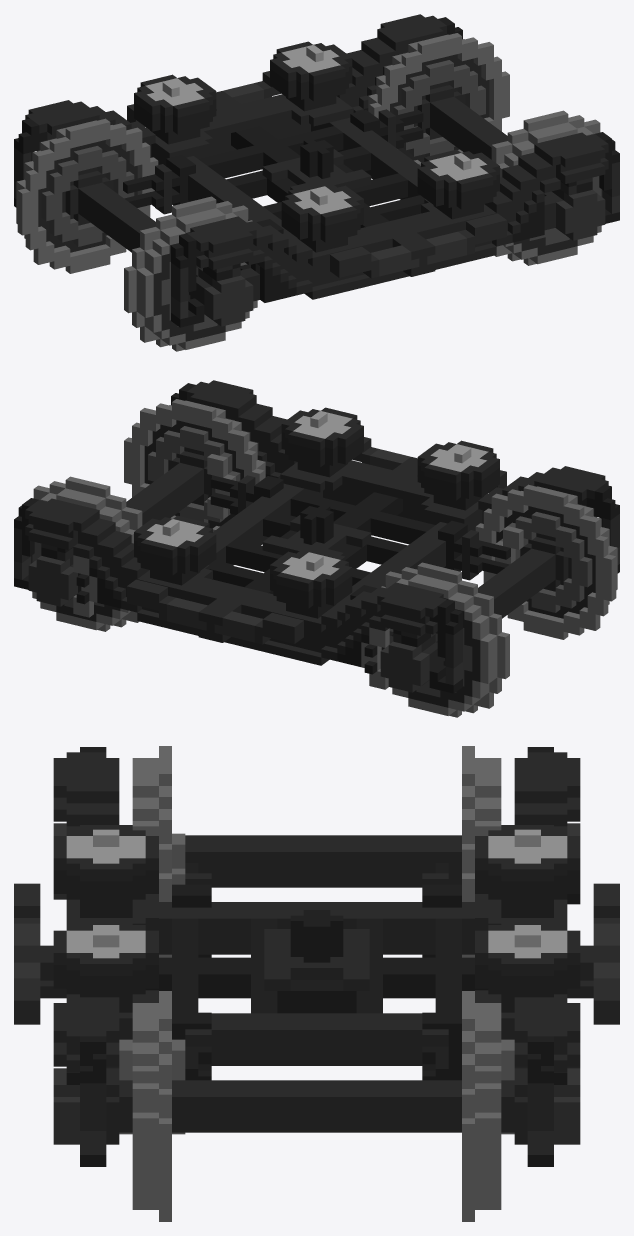
Rendered from rabe501runningbogie.obj.
3 renders of one model, top to bottom at view 1: azimuth 30°, elevation 25°; view 2: azimuth 150°, elevation 25°; view 3: azimuth 270°, elevation 25°, orthographic. The views are drawn at different scales.
Parts seen in each view (by area): view 1: FRAME, FRAME_WHEEL_1, FRAME_WHEEL_2; view 2: FRAME, FRAME_WHEEL_1, FRAME_WHEEL_2; view 3: FRAME, FRAME_WHEEL_2, FRAME_WHEEL_1.
Part boxes in pixels (x1,y1,x2,y2): FRAME: [14, 14, 619, 327]; FRAME_WHEEL_1: [16, 118, 257, 351]; FRAME_WHEEL_2: [368, 33, 602, 265]; FRAME: [14, 380, 619, 693]; FRAME_WHEEL_1: [381, 484, 617, 717]; FRAME_WHEEL_2: [31, 399, 265, 631]; FRAME: [14, 747, 619, 1166]; FRAME_WHEEL_2: [119, 991, 514, 1221]; FRAME_WHEEL_1: [132, 746, 501, 957].
Size of the model in its own units: 3.81 by 1.06 by 2.88.
Materials: 1 (1 with a texture image).
